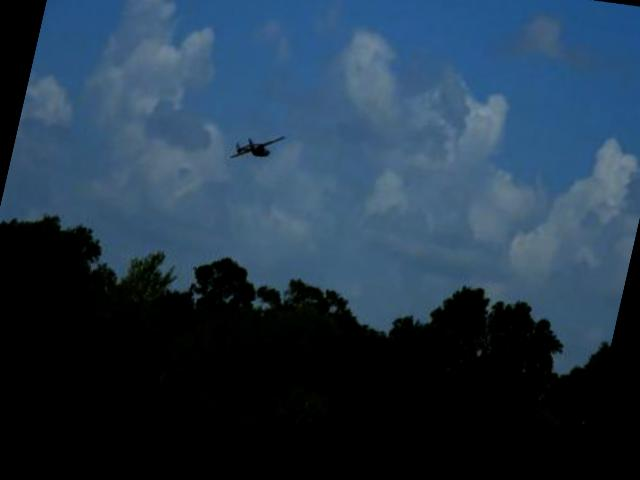uav: (227, 124, 286, 175)
